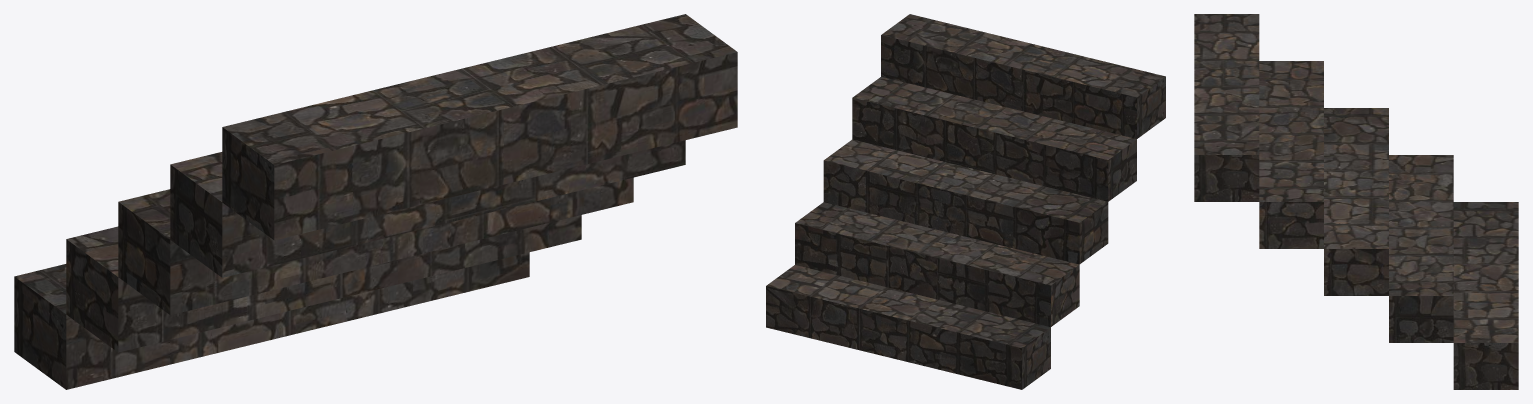
The model's file is stairs.glb.
The picture shows the model from 3 angles, left to right: view 1: azimuth 30°, elevation 25°; view 2: azimuth 150°, elevation 25°; view 3: azimuth 270°, elevation 25°; orthographic projection. The views are drawn at different scales.
Visible parts, largest first — view 1: stairs; view 2: stairs; view 3: stairs.
Part boxes in pixels (box(x1,y1,x2,y2)): stairs: box(14, 14, 737, 389); stairs: box(766, 14, 1165, 389); stairs: box(1194, 14, 1518, 389).
Size of the model in its own units: 1.8 by 1.4 by 1.75.
1 material, 1 textured.
